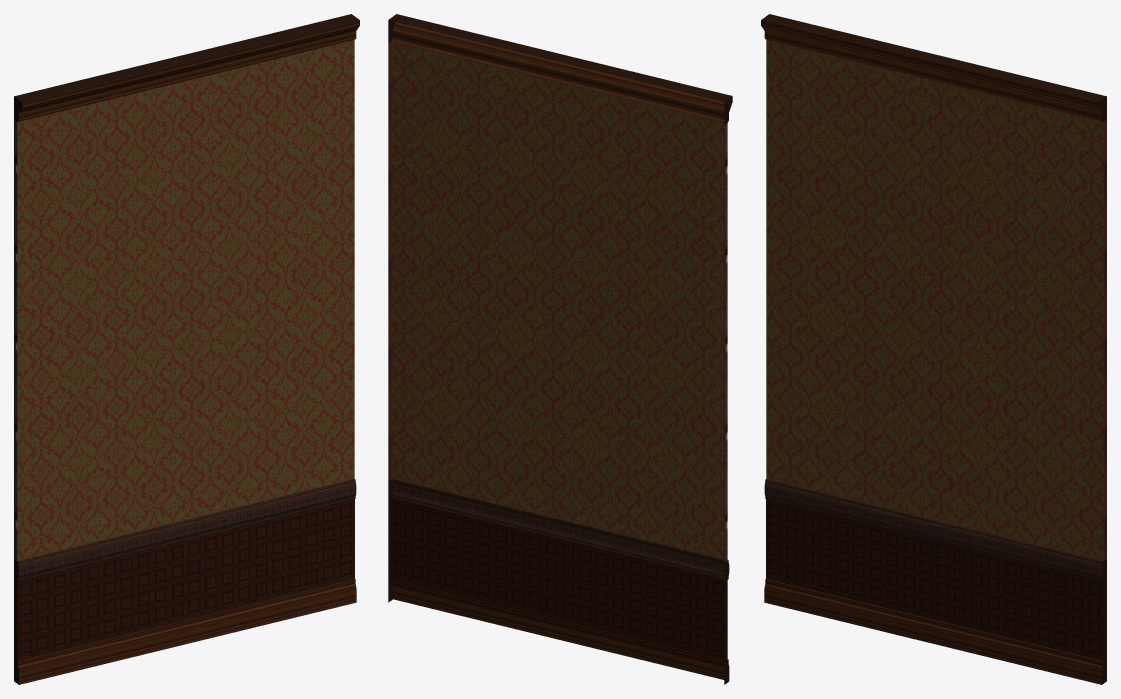
File: Wall_DinningRoom_Med.fbx
3 views of the same model, side by side, from view 1: azimuth 30°, elevation 25°; view 2: azimuth 150°, elevation 25°; view 3: azimuth 330°, elevation 25° (orthographic).
Visible parts, largest first — view 1: WallSectionDiningRoom_Med.001; view 2: WallSectionDiningRoom_Med.001; view 3: WallSectionDiningRoom_Med.001.
Part boxes in pixels (x1,y1,x2,y2): WallSectionDiningRoom_Med.001: (14,14,359,684); WallSectionDiningRoom_Med.001: (388,14,732,684); WallSectionDiningRoom_Med.001: (761,14,1106,684).
Size of the model in its own units: 369 by 611 by 15.9.
